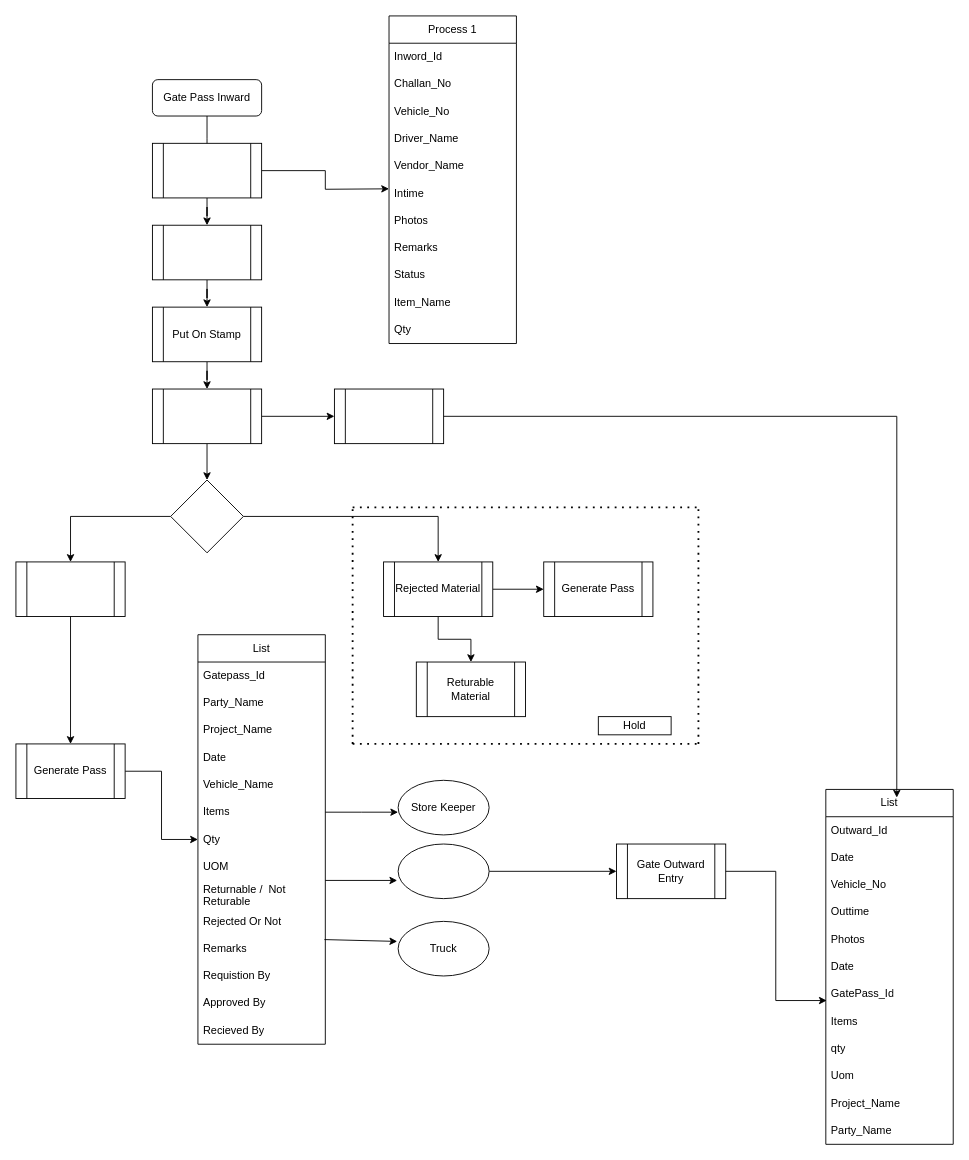
Some shapes in this 969 by 1160 pixel diagram are drawn without their labels. Here are the shapes that lost their labels. From the top down, the centre of each, then its label:
point (207, 170): Data Store
point (207, 252): Generate Inward_Id
point (207, 416): Approved For Unloading
point (389, 416): Empty Truck
point (206, 516): is
point (70, 589): Storekeeper Recived Material
point (443, 871): Gate Keeper
